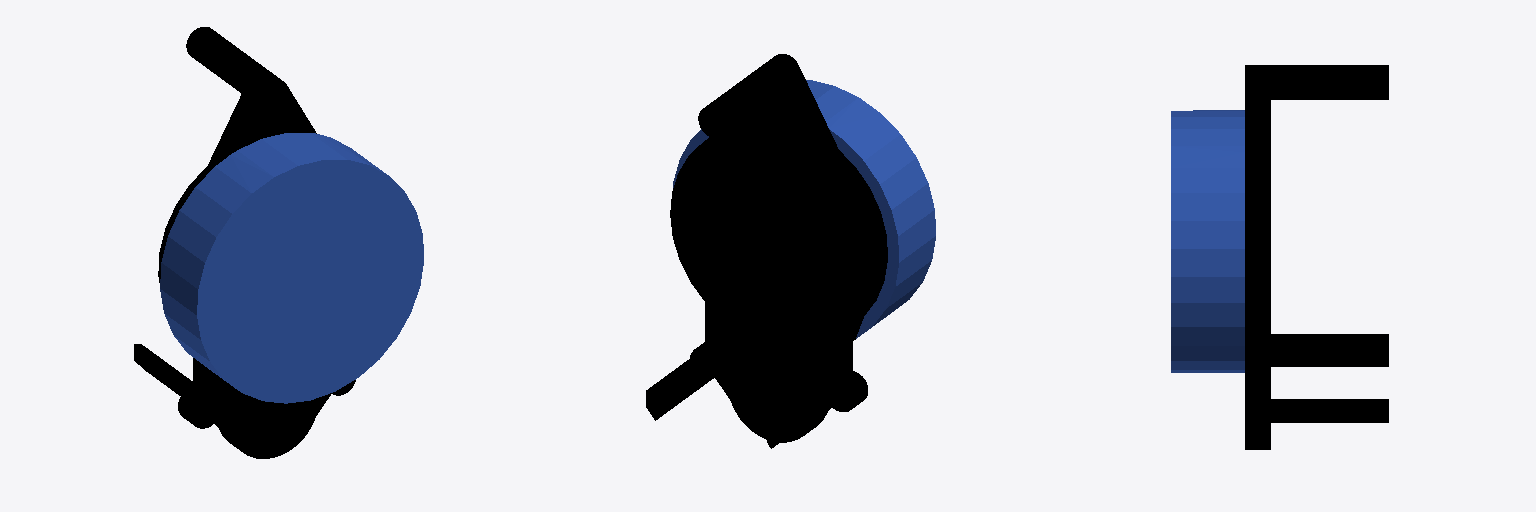
The model's file is ydlidar_x2l.obj.
3 renders of one model, left to right at view 1: azimuth 30°, elevation 25°; view 2: azimuth 150°, elevation 25°; view 3: azimuth 270°, elevation 25°, orthographic.
Parts seen in each view (by area): view 1: mesh0, mesh1, mesh16, mesh9, mesh7, mesh6, mesh22, mesh5; view 2: mesh20, mesh1, mesh9, mesh4, mesh5, mesh27, mesh6, mesh22, mesh10; view 3: mesh1, mesh12, mesh9, mesh23, mesh8, mesh28, mesh13, mesh14, mesh29.
Boxes of the visible parts, x1=… form: mesh0: x1=197, y1=160, x2=423, y2=403; mesh1: x1=160, y1=133, x2=388, y2=388; mesh16: x1=191, y1=367, x2=355, y2=458; mesh9: x1=186, y1=27, x2=280, y2=93; mesh7: x1=230, y1=80, x2=316, y2=154; mesh6: x1=208, y1=82, x2=259, y2=168; mesh22: x1=134, y1=345, x2=192, y2=394; mesh5: x1=158, y1=166, x2=211, y2=282; mesh20: x1=670, y1=78, x2=874, y2=442; mesh1: x1=806, y1=80, x2=935, y2=331; mesh9: x1=706, y1=54, x2=797, y2=133; mesh4: x1=829, y1=129, x2=898, y2=338; mesh5: x1=826, y1=150, x2=887, y2=324; mesh27: x1=646, y1=348, x2=719, y2=419; mesh6: x1=786, y1=65, x2=838, y2=158; mesh22: x1=781, y1=381, x2=839, y2=438; mesh10: x1=698, y1=107, x2=727, y2=138; mesh1: x1=1171, y1=110, x2=1244, y2=372; mesh12: x1=1245, y1=176, x2=1270, y2=354; mesh9: x1=1245, y1=65, x2=1388, y2=99; mesh23: x1=1271, y1=334, x2=1388, y2=366; mesh8: x1=1245, y1=81, x2=1270, y2=175; mesh28: x1=1271, y1=401, x2=1388, y2=415; mesh13: x1=1245, y1=355, x2=1270, y2=400; mesh14: x1=1245, y1=401, x2=1270, y2=433; mesh29: x1=1271, y1=416, x2=1388, y2=422.
Size of the model in its own units: 0.0604 by 0.096 by 0.0503.